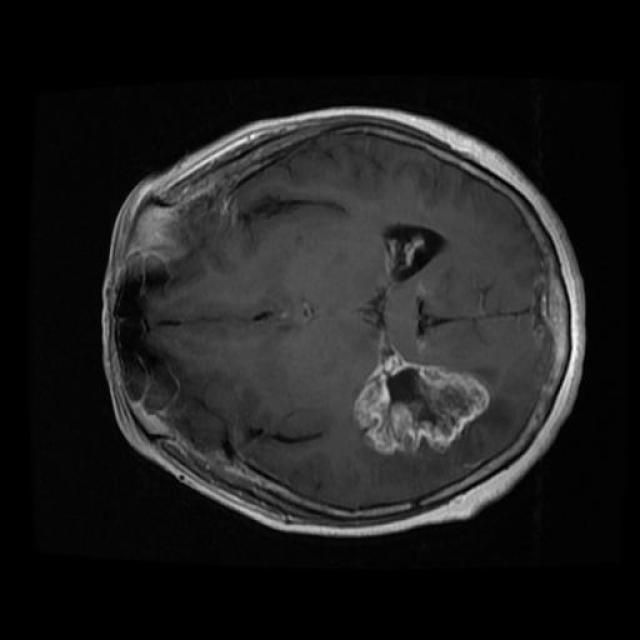Glioma: (355, 335, 489, 454)
